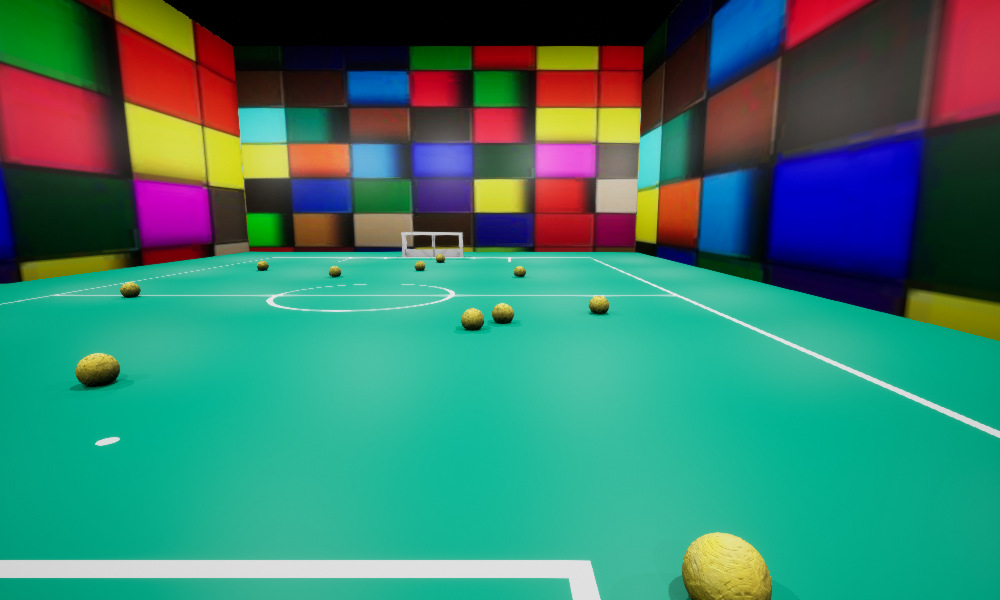b: (682, 532, 771, 599), (75, 353, 119, 385), (461, 308, 483, 329), (492, 303, 513, 323), (589, 295, 608, 313), (120, 282, 140, 296), (329, 266, 340, 276), (514, 266, 525, 276), (257, 261, 268, 269), (414, 261, 424, 269), (436, 254, 444, 262)
g: (401, 232, 462, 256)
